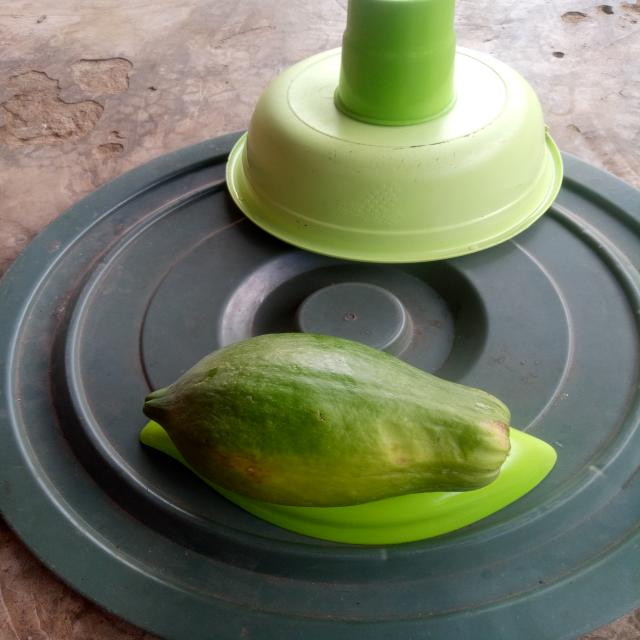Pepaya unrippen: (128, 330, 516, 513)
